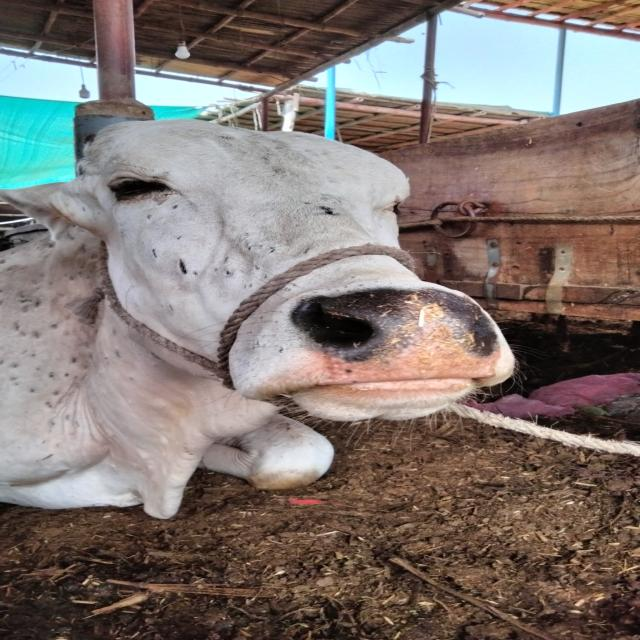muzzles: (268, 278, 512, 394)
